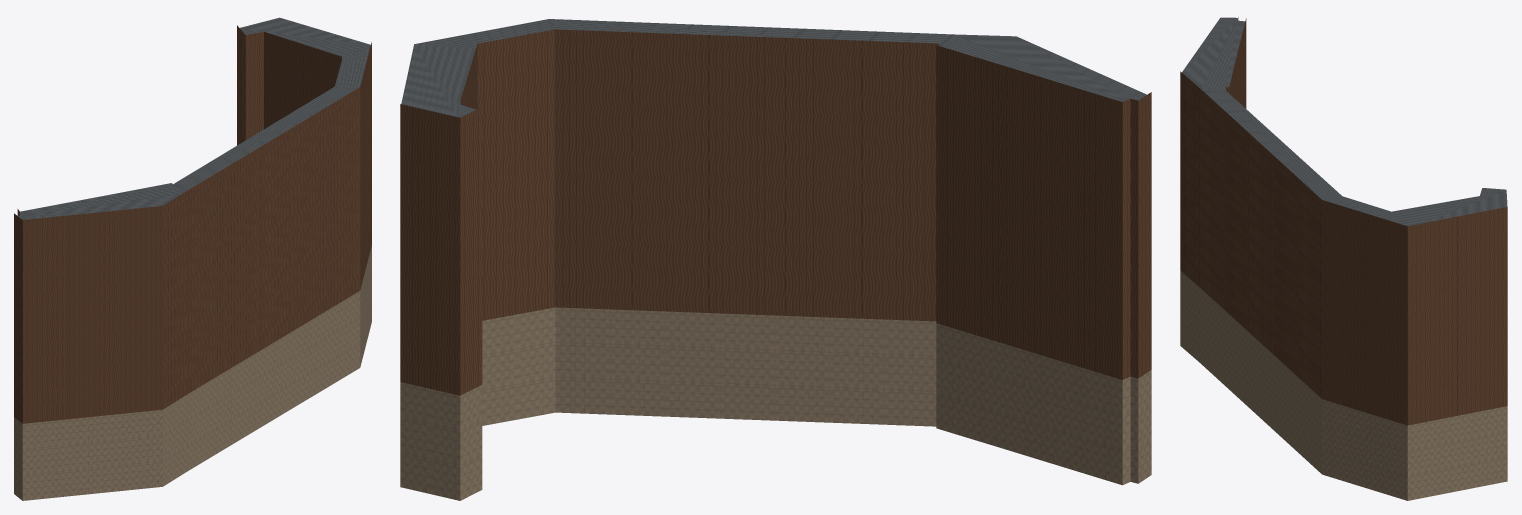
Rendered from bld_c-2_1_532.gltf.
3 renders of one model, left to right at view 1: azimuth 30°, elevation 25°; view 2: azimuth 150°, elevation 25°; view 3: azimuth 270°, elevation 25°, orthographic. The views are drawn at different scales.
Parts seen in each view (by area): view 1: bld_c-2_1_532; view 2: bld_c-2_1_532; view 3: bld_c-2_1_532.
Part boxes in pixels (x1,y1,x2,y2): bld_c-2_1_532: (14, 17, 371, 500); bld_c-2_1_532: (400, 19, 1151, 500); bld_c-2_1_532: (1180, 17, 1507, 500).
Bounding box in the file's own units: 30.8 × 18.58 × 20.07.
4 materials, 4 textured.
